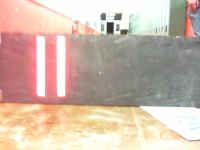switch: (36, 35, 46, 97), (56, 35, 66, 97)
